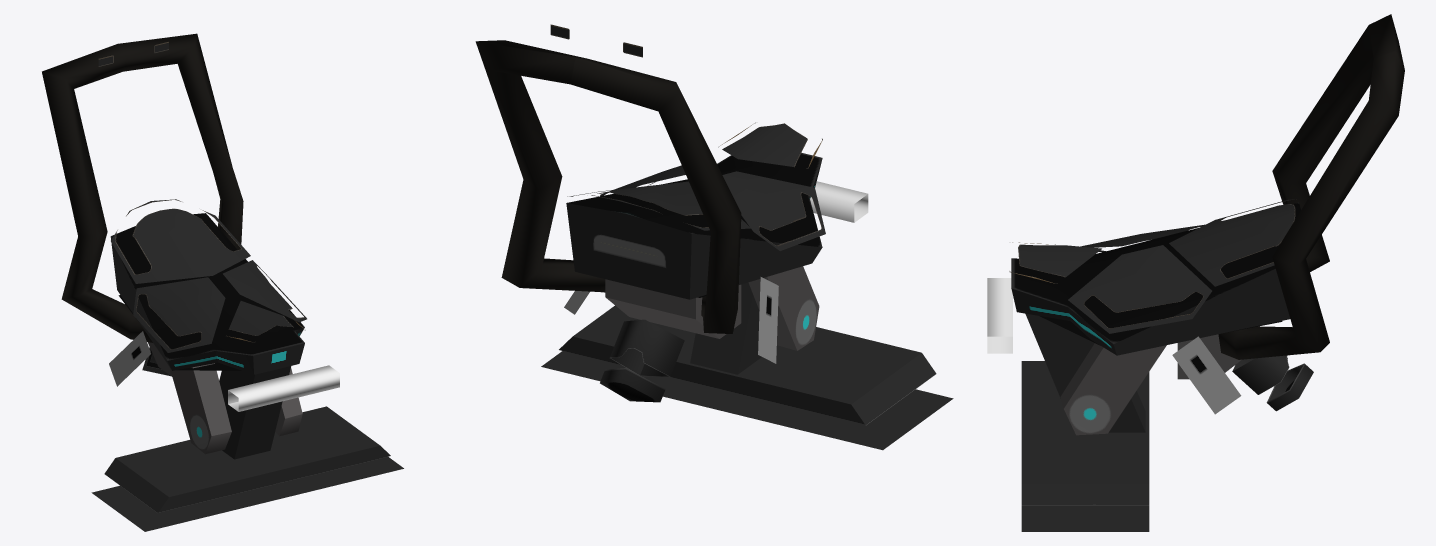
File: obj_interactive_saddle_04_lod1.fbx
3 views of the same model, side by side, from view 1: azimuth 30°, elevation 25°; view 2: azimuth 150°, elevation 25°; view 3: azimuth 270°, elevation 25° (orthographic). The views are drawn at different scales.
Visible parts, largest first — view 1: polySurface9; view 2: polySurface9; view 3: polySurface9.
Boxes of the visible parts, x1,y1,x2,y2 form: polySurface9: (42, 33, 403, 531); polySurface9: (475, 24, 953, 450); polySurface9: (987, 14, 1404, 531).
Size of the model in its own units: 2.77 by 3.62 by 3.42.
1 material, 1 textured.
